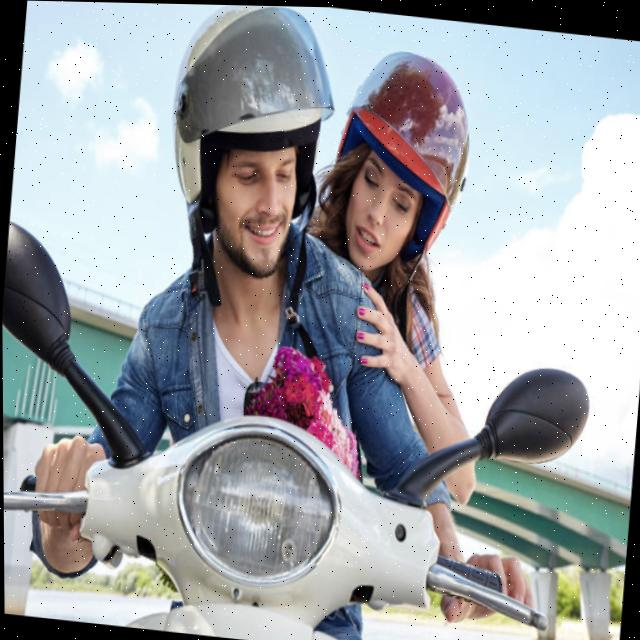helmet: (321, 33, 485, 284)
illegal_helmet: (148, 3, 347, 354)
